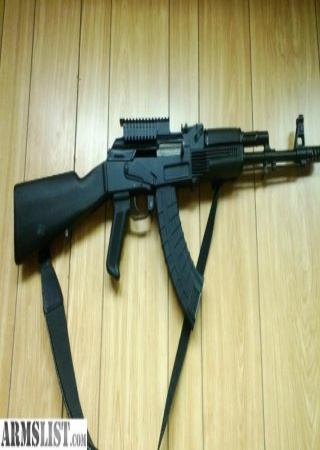rifle: (6, 99, 320, 314)
